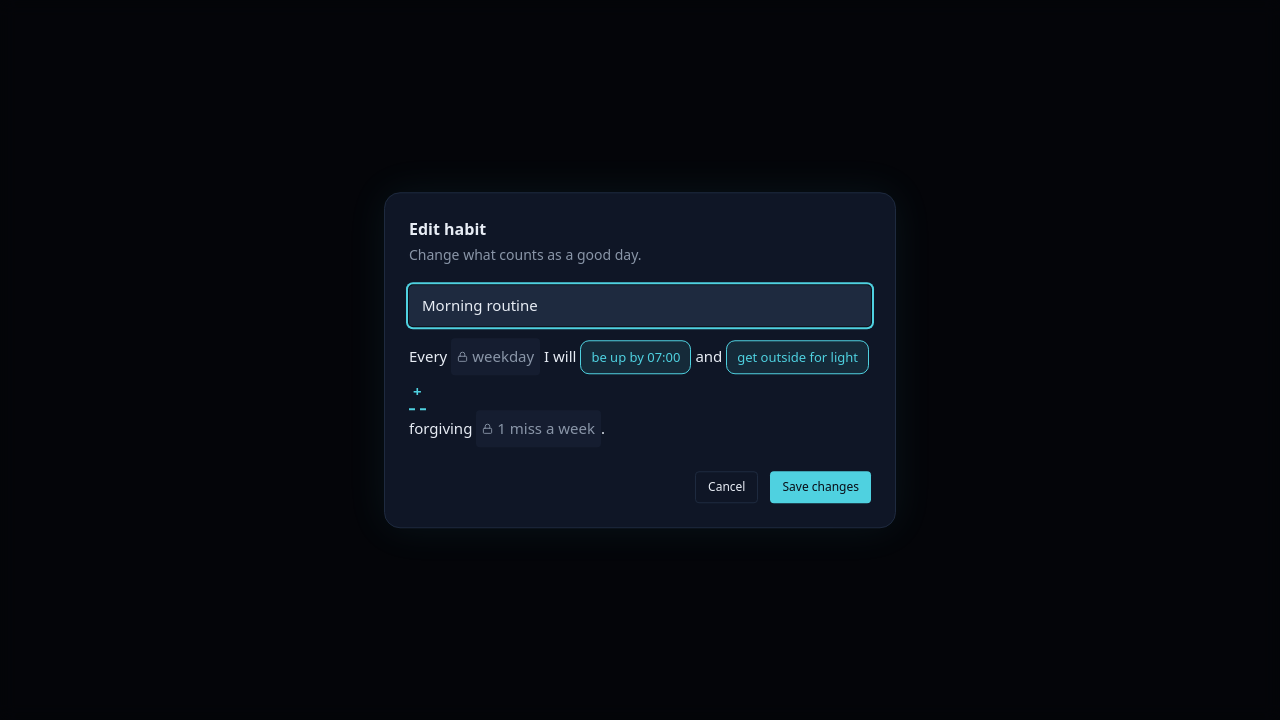
EditHabitDialog — the locked cadence › offers no weekday toggles behind the locked days slot
The width and height of the screenshot is (1280, 720).
Click the button with aria-label "Locked: Days: weekday" at x=496, y=356, box [451,338,540,375]
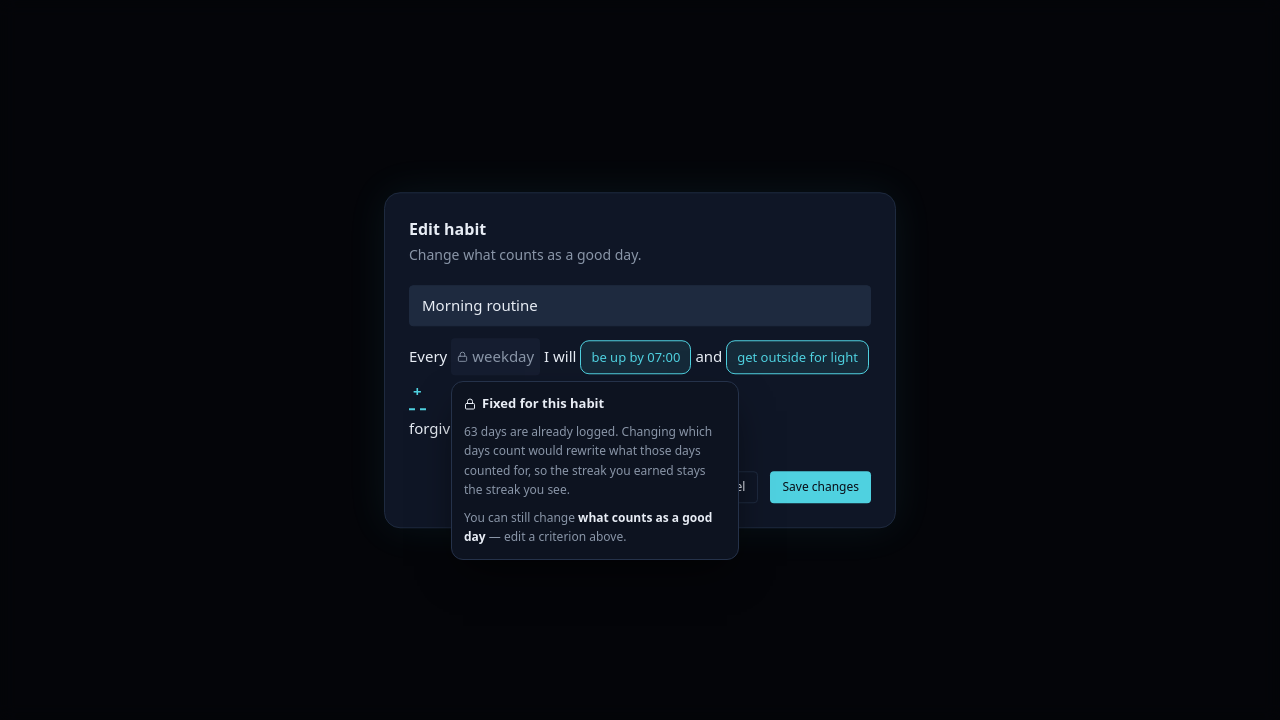
Check: the text "Fixed for this habit" is shown, box [464,394,604,412]
